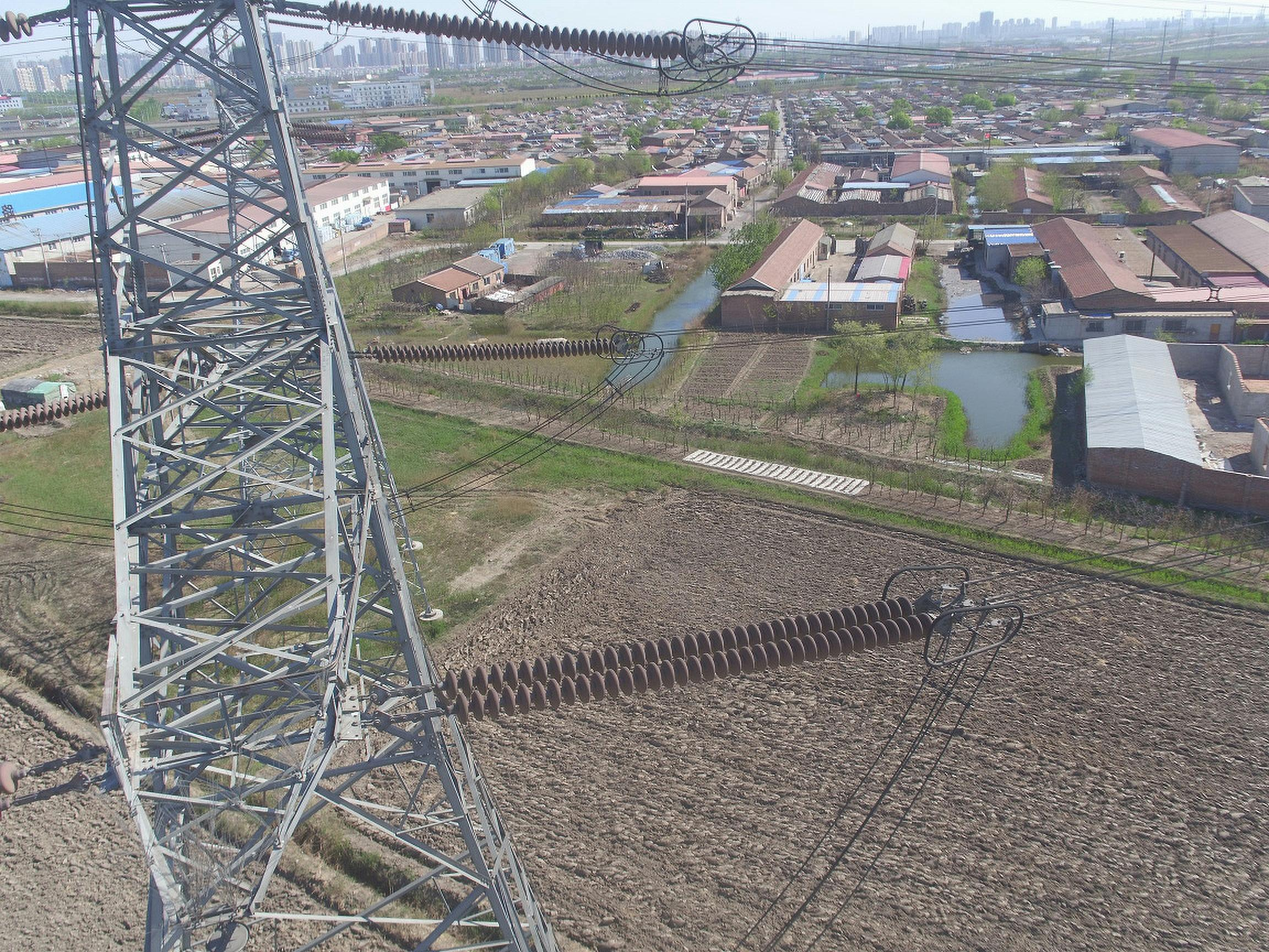insulator: (439, 592, 939, 729), (326, 1, 697, 63), (365, 335, 618, 365), (1, 387, 109, 434), (155, 126, 222, 154), (285, 121, 351, 147), (1, 7, 40, 46)
